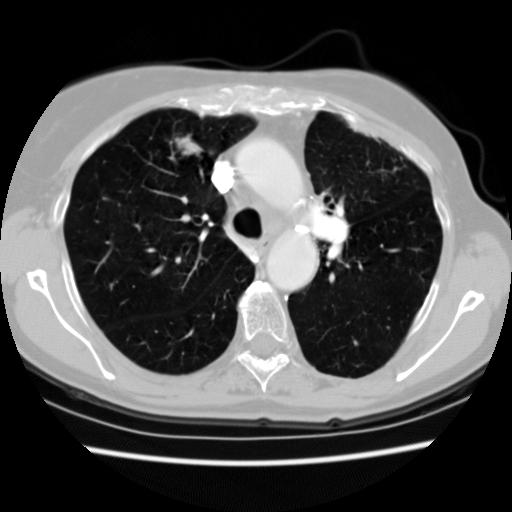nodule: (177, 131, 206, 160)
